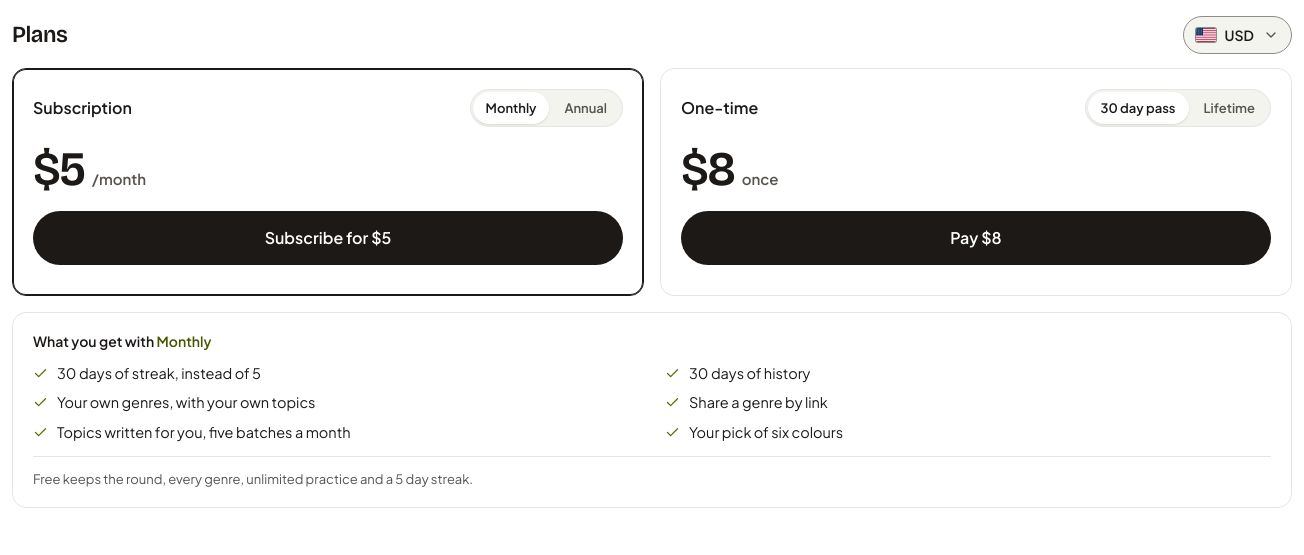
Test case: the plans › asks our own route for a checkout, naming the plan and the currency on screen
The width and height of the screenshot is (1304, 555).
Click the button "Subscribe for $5".
click(328, 238)  # box [33,211,623,265]
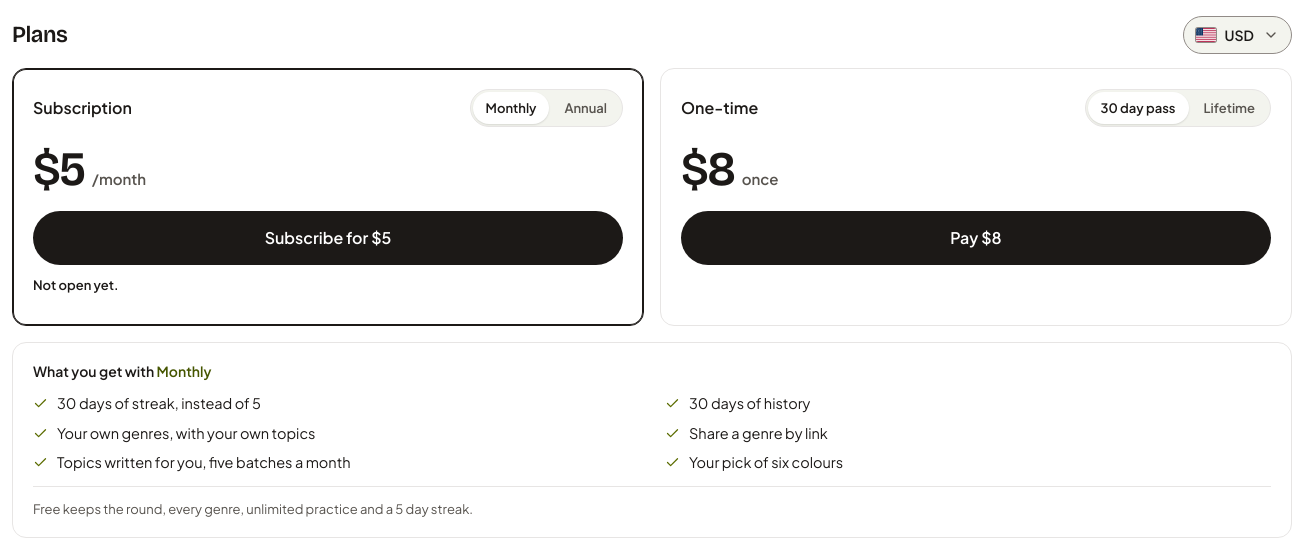
Expected: the message reads "Not open yet.", [33,277,119,293]
